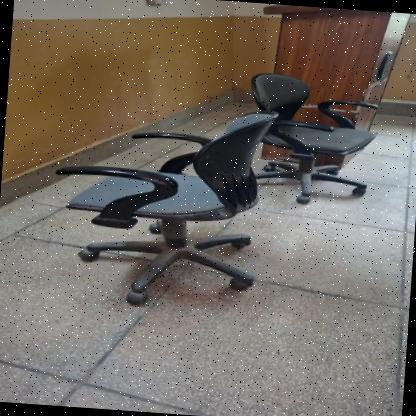chair: (40, 90, 288, 321), (239, 62, 391, 212)
